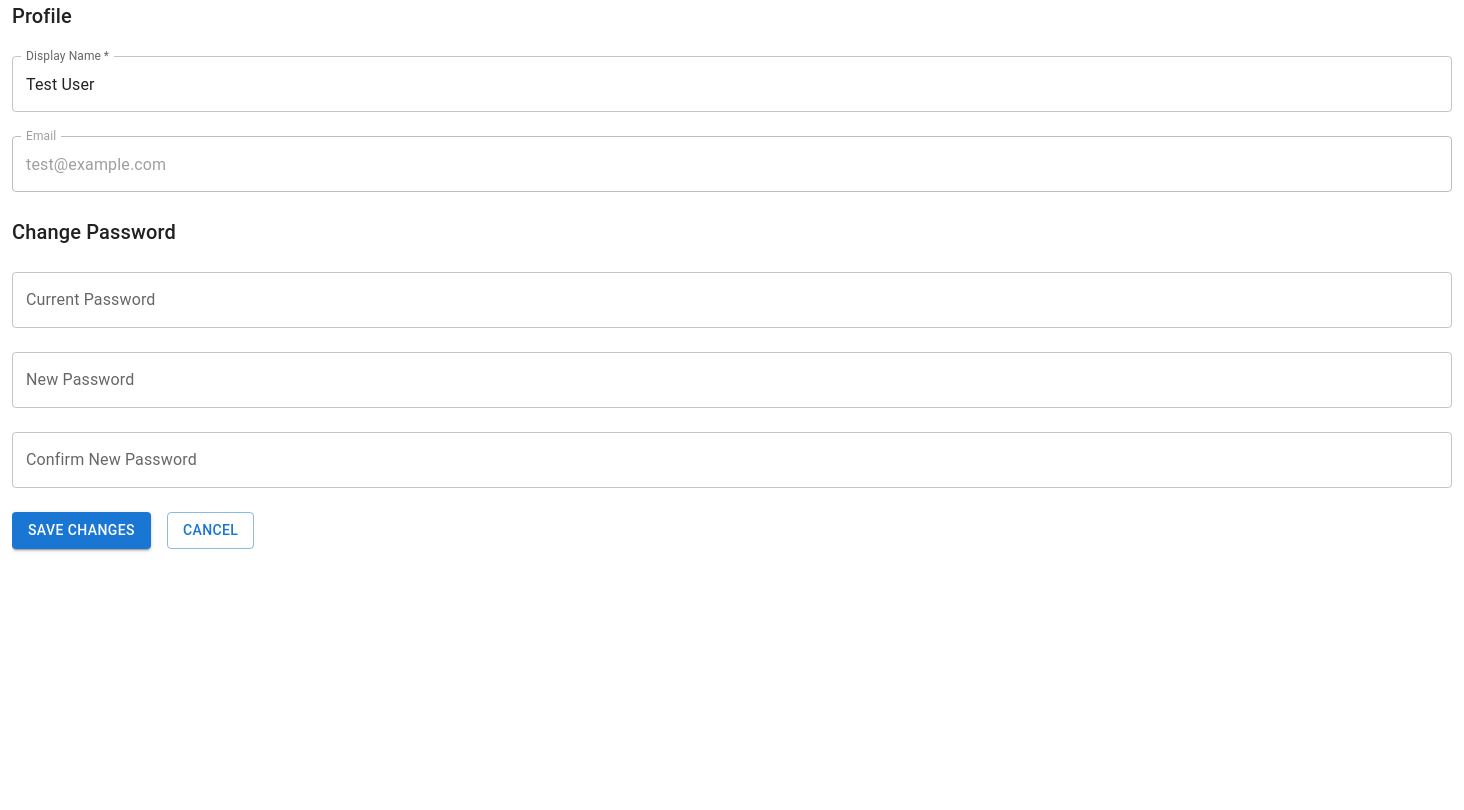
ProfileForm › Password Change › should validate password minimum length
Type "short" into the password field labelled "New Password" at point(732, 380), box [12,352,1452,408]
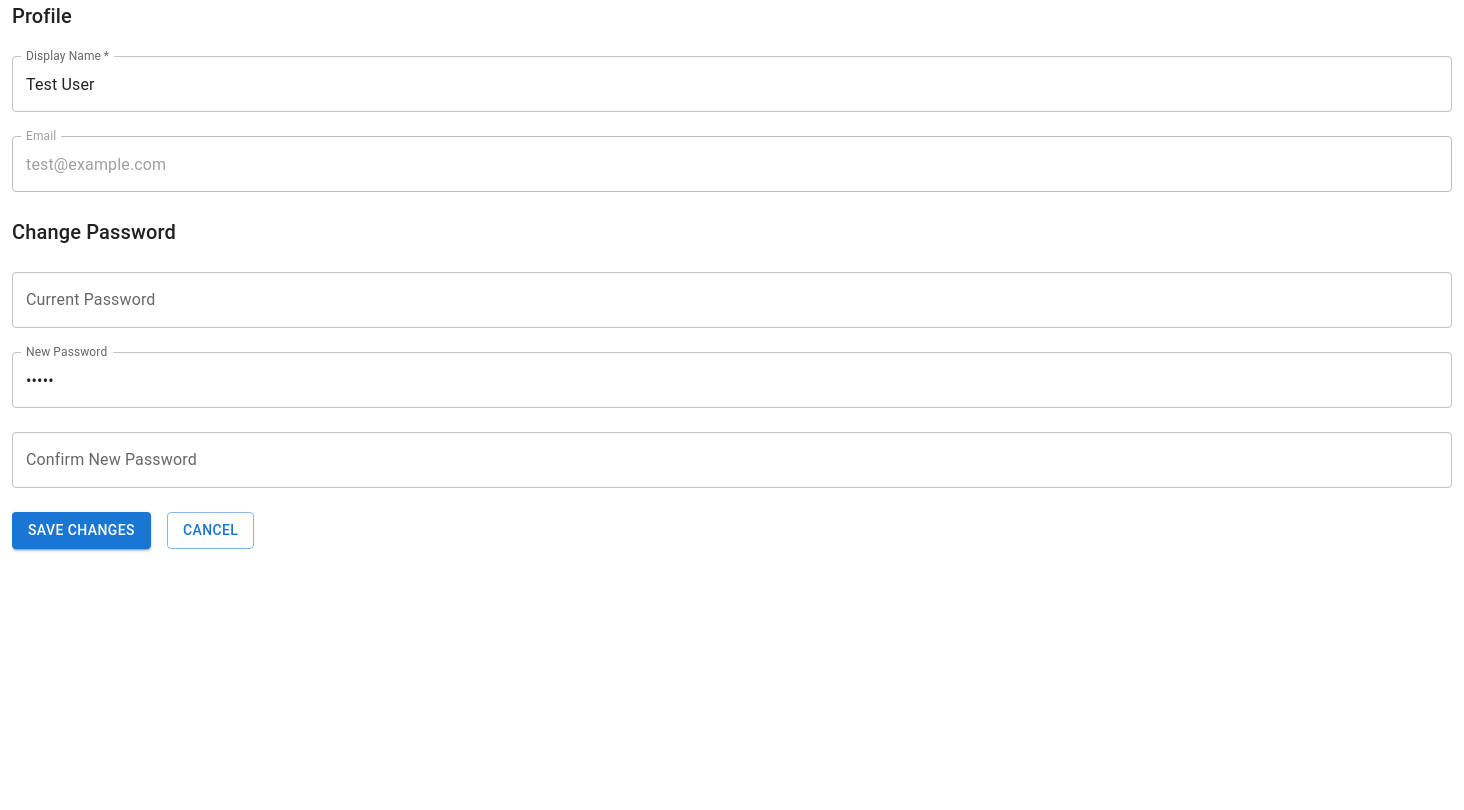
Leave the password field labelled "New Password", box [12,352,1452,408]
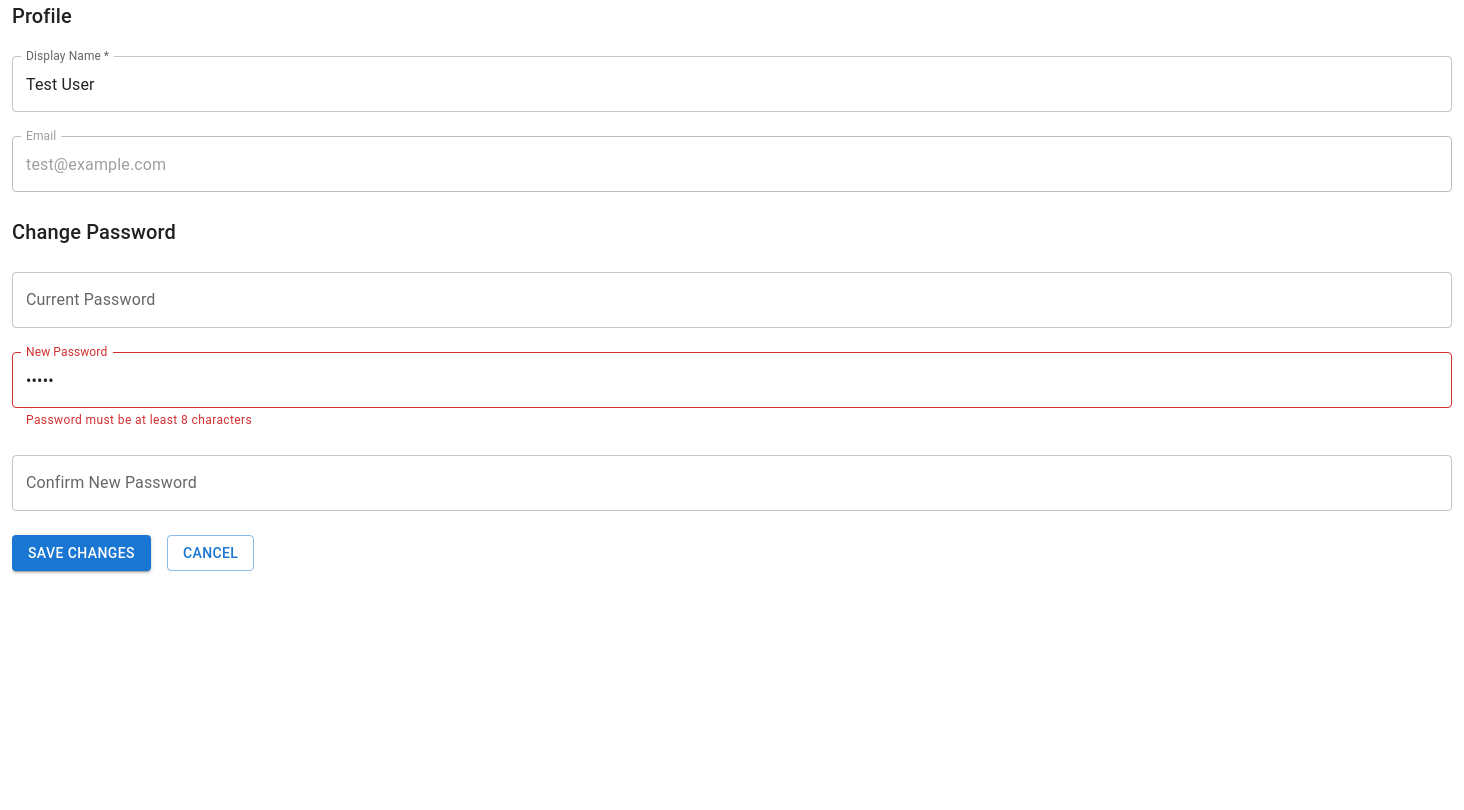
Expected: the text "Password must be at least 8 characters" is shown, [26,413,252,427]
